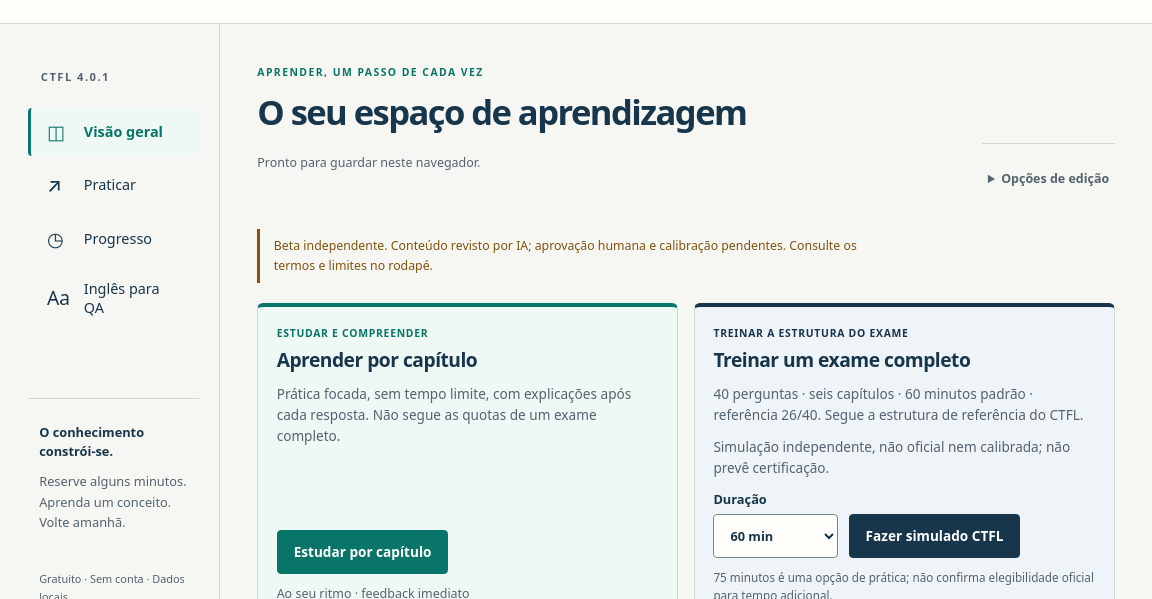
Test: explains a missing mandatory group without creating an exam, and keeps topic study usable
Click the button "Fazer simulado CTFL" at (934,536), box [849, 514, 1020, 558]
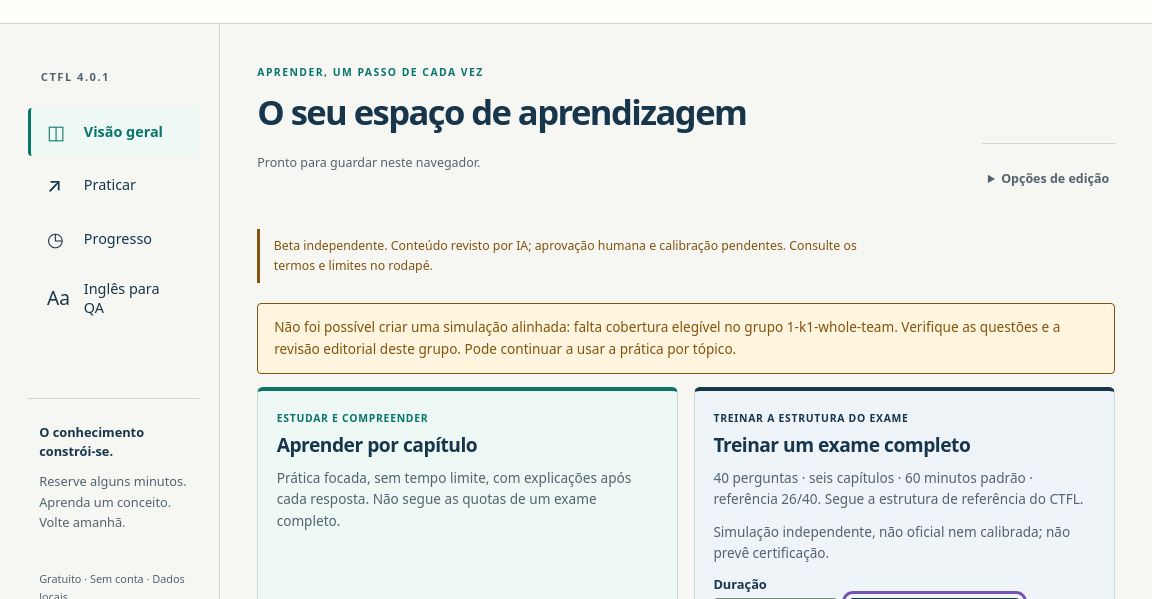
Expected: the message shows "falta cobertura elegível no grupo 1-k1-whole-team", [274, 317, 1060, 358]
Expected: the message shows "Pode continuar a usar a prática por tópico", [274, 317, 1060, 358]
Click the button "↗ Praticar" at (114,185), box [28, 161, 199, 209]
(page scrolled)
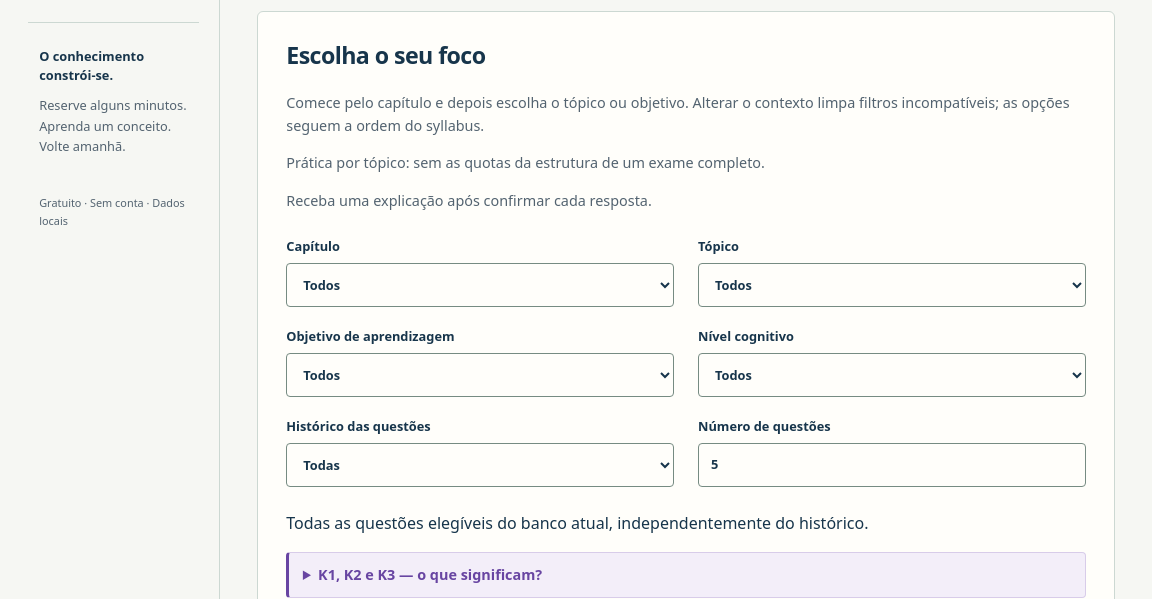
Select "6. Ferramentas de teste" in the dropdown labelled "Capítulo" at (480,285), box [286, 263, 674, 307]
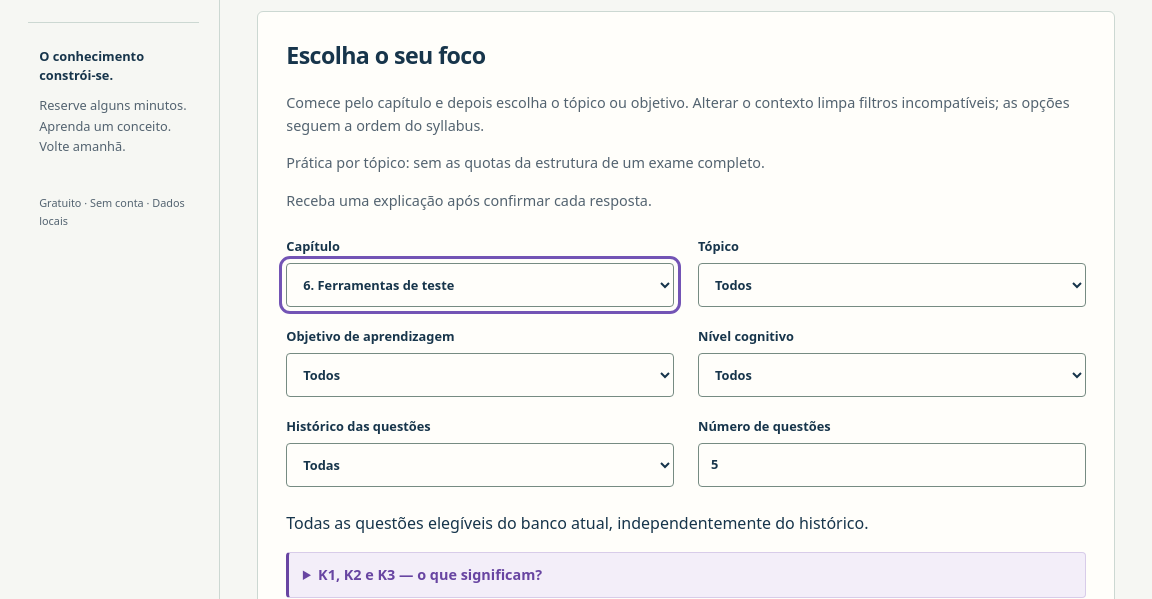
Replace the text in the number field labelled "Número de questões" with "1" at (892,465), box [698, 443, 1086, 487]
(page scrolled)
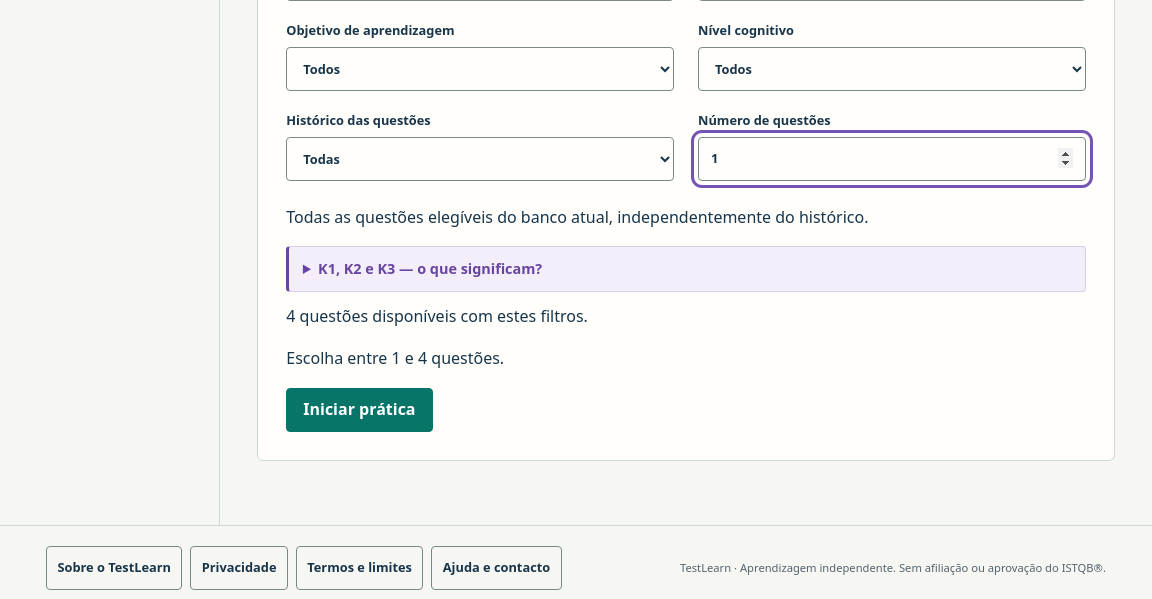
Click the button "Iniciar prática" at (359,410), box [286, 388, 433, 432]
(page scrolled)
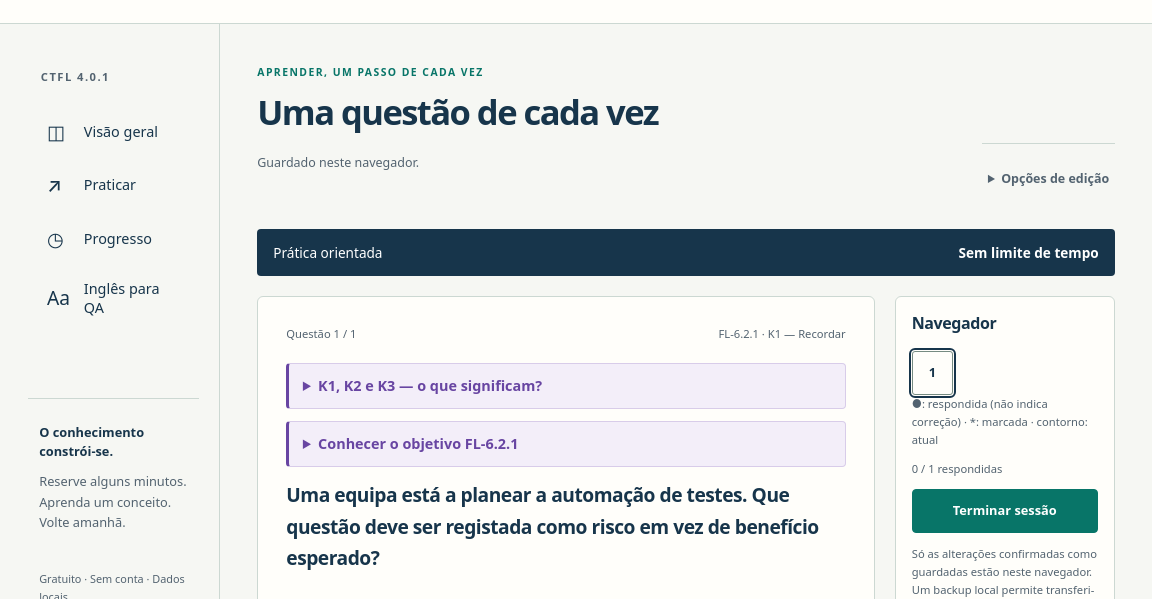
Expected: the text "Questão 1 / 1" is shown, [286, 325, 356, 343]
